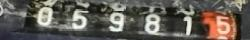digits: (108, 2, 127, 37), (71, 0, 91, 30), (143, 13, 161, 33), (36, 7, 53, 26), (216, 14, 230, 34), (183, 16, 192, 34)
